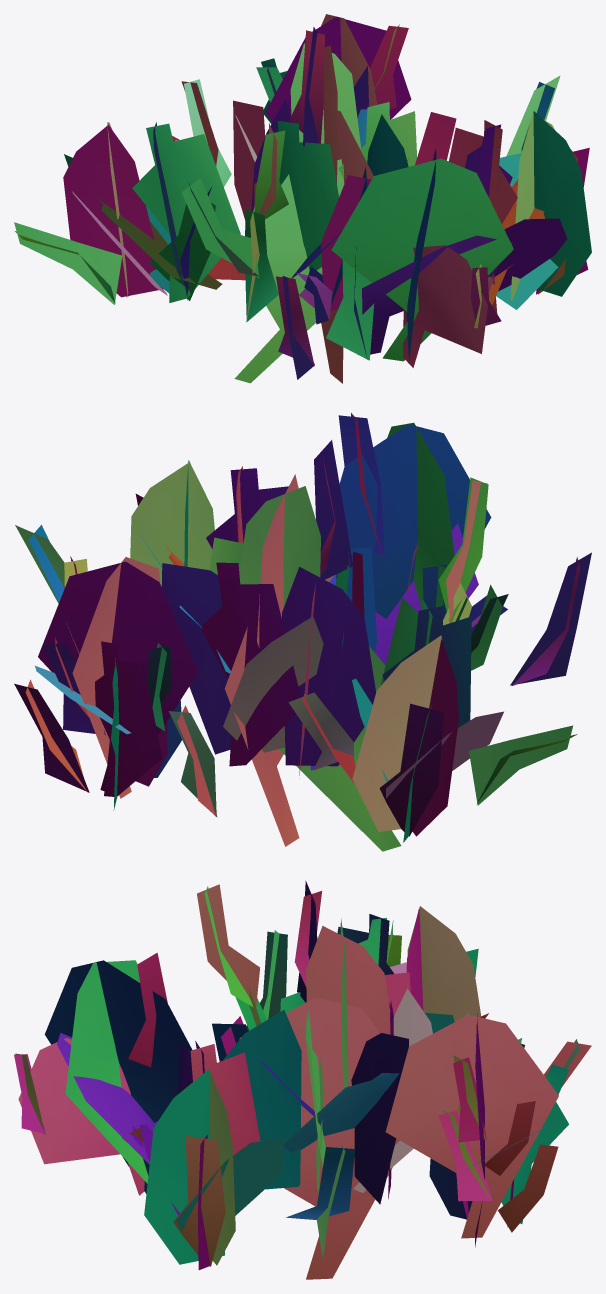
File: SM_BogMyrtle_01.FBX
3 views of the same model, one above another, from view 1: azimuth 30°, elevation 25°; view 2: azimuth 150°, elevation 25°; view 3: azimuth 270°, elevation 25° (orthographic). The views are drawn at different scales.
Visible parts, largest first — view 1: SM_BogMyrtle_01_LOD0; view 2: SM_BogMyrtle_01_LOD0; view 3: SM_BogMyrtle_01_LOD0.
Part boxes in pixels (bbox=[...]): SM_BogMyrtle_01_LOD0: bbox=[14, 14, 591, 383]; SM_BogMyrtle_01_LOD0: bbox=[14, 413, 591, 851]; SM_BogMyrtle_01_LOD0: bbox=[14, 880, 591, 1279].
Size of the model in its own units: 132 by 120 by 87.87.
